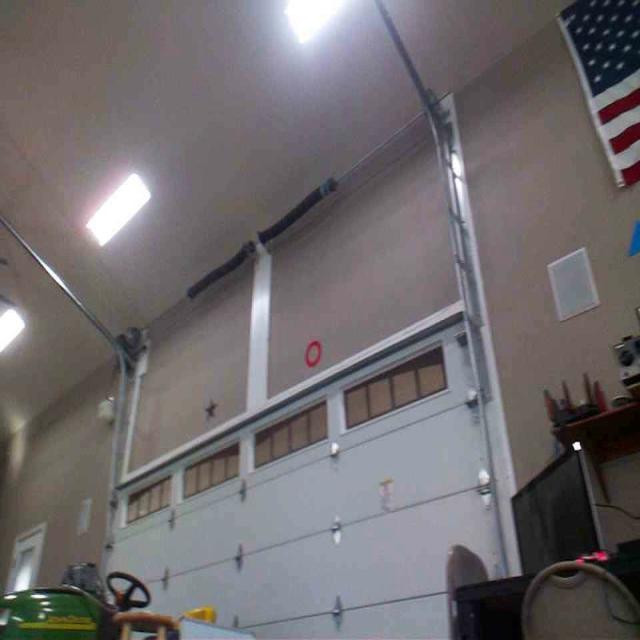ring_red: (304, 337, 322, 367)
star_black: (202, 398, 219, 422)
